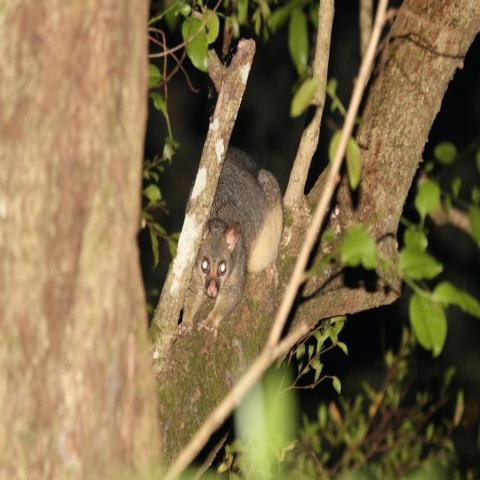small_animal: (172, 145, 284, 341)
